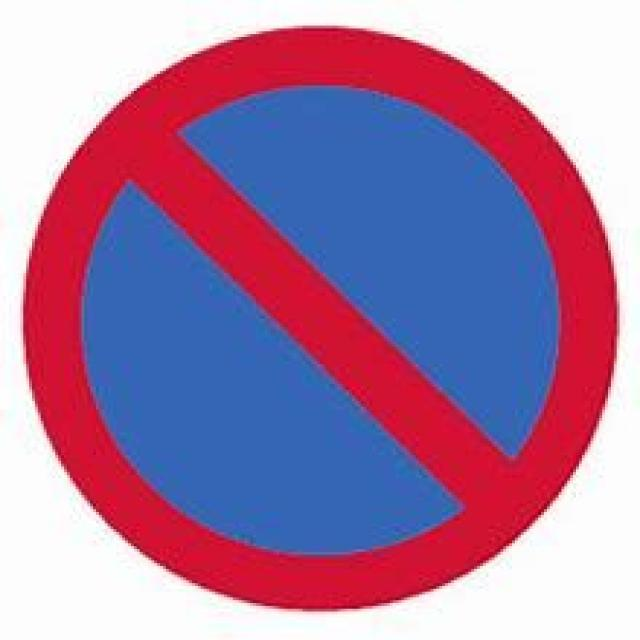no parking: (25, 20, 616, 609)
